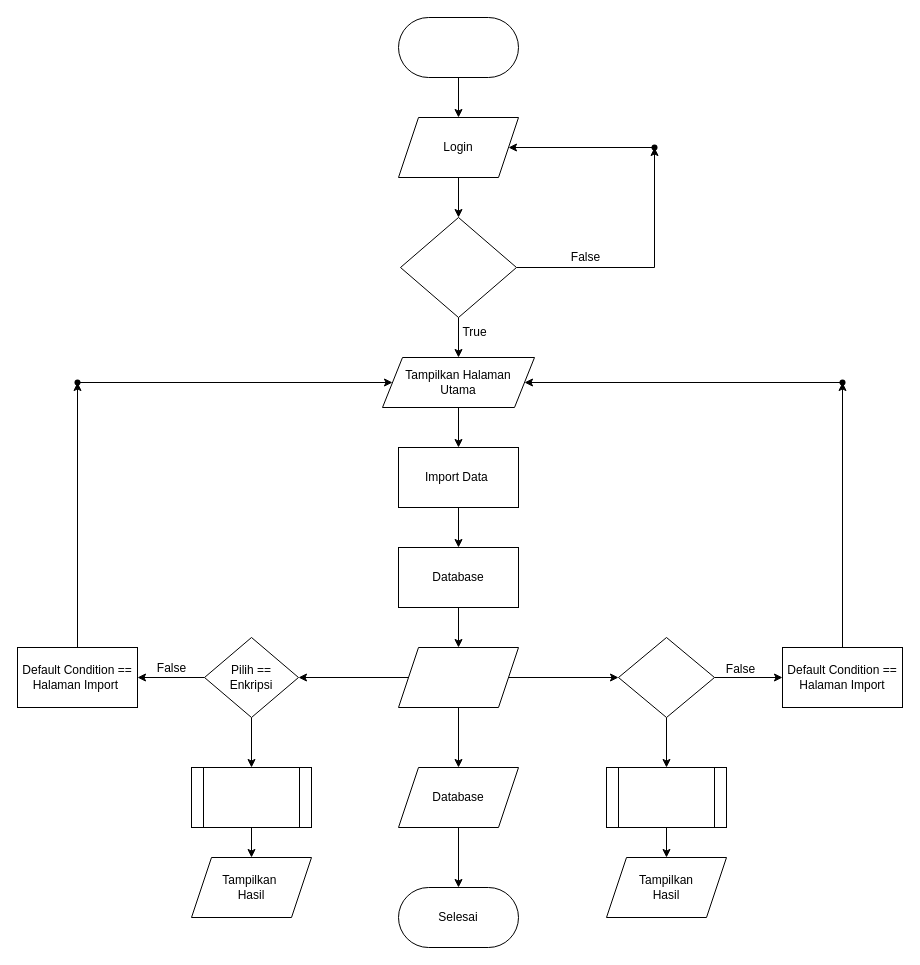
Some shapes in this 920 by 965 pixel diagram are drawn without their labels. Here are the shapes that lost their labels. From the top down, the centre of each, then its label:
At point 458,47: "Mulai".
At point 458,267: "Username & Passowrd".
At point 458,677: "Input Pilih".
At point 666,677: "Pilih == Dekripsi".
At point 251,797: "Proses Enkripsi".
At point 666,797: "Proses Dekripsi".
